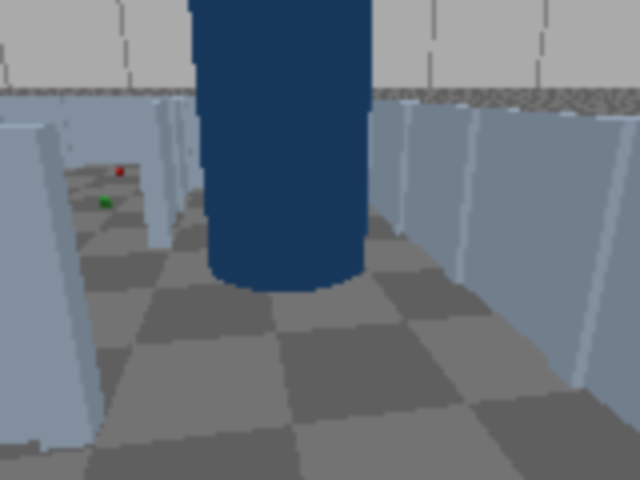person: (0, 0, 24, 390)
